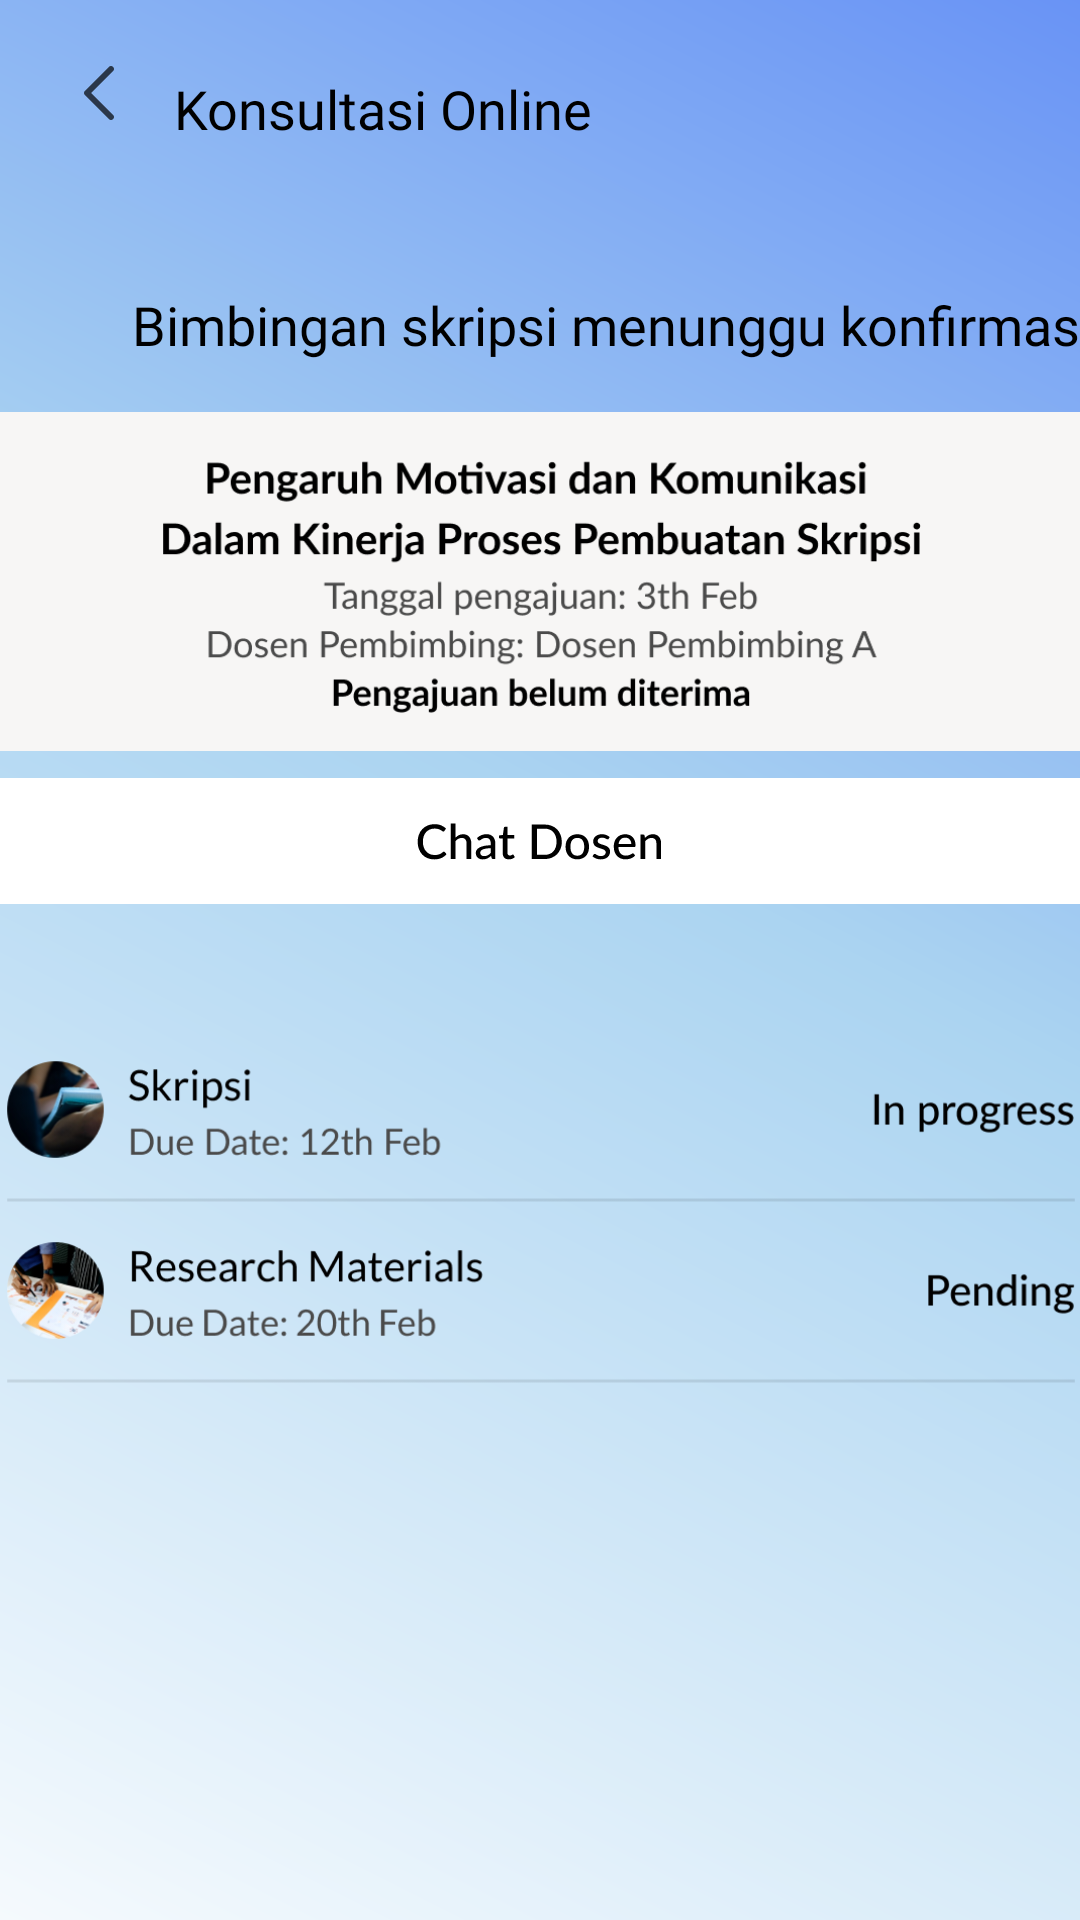

Icons on this 1080 × 1920 Android screen, each with its box as (x1, y1, x2, y2):
arrowkiri: (84, 66, 114, 120)
